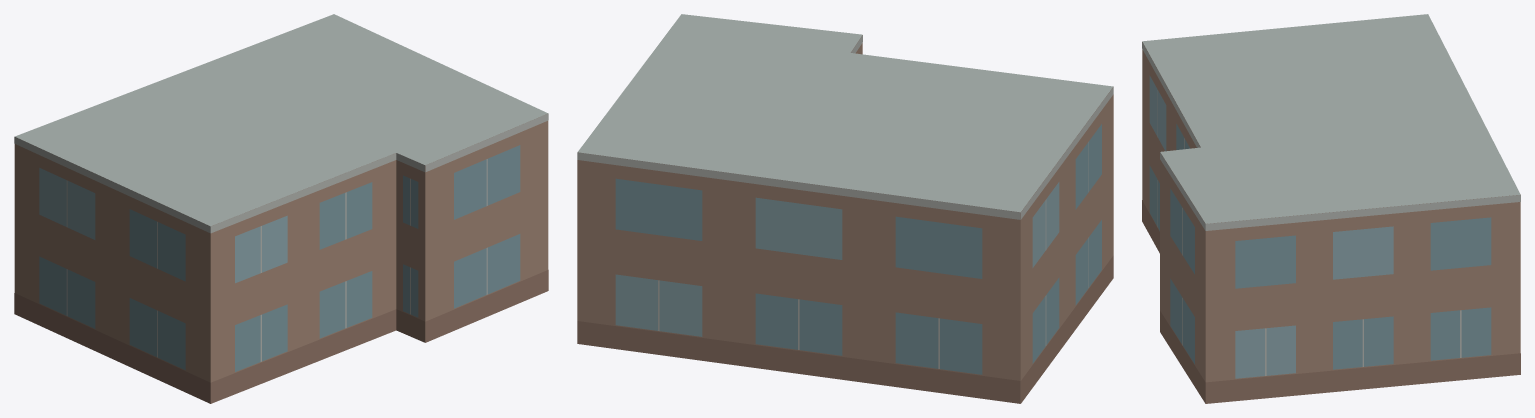
The model's file is survey-upis-32724609.glb.
3 views of the same model, side by side, from view 1: azimuth 30°, elevation 25°; view 2: azimuth 150°, elevation 25°; view 3: azimuth 270°, elevation 25° (orthographic). The views are drawn at different scales.
Parts seen in each view (by area): view 1: survey-upis-32724609.tmp; view 2: survey-upis-32724609.tmp; view 3: survey-upis-32724609.tmp.
Part boxes in pixels (x1,y1,x2,y2): survey-upis-32724609.tmp: (14,14,548,403); survey-upis-32724609.tmp: (577,14,1113,403); survey-upis-32724609.tmp: (1142,14,1520,403).
Size of the model in its own units: 15.26 by 6.1 by 11.64.
